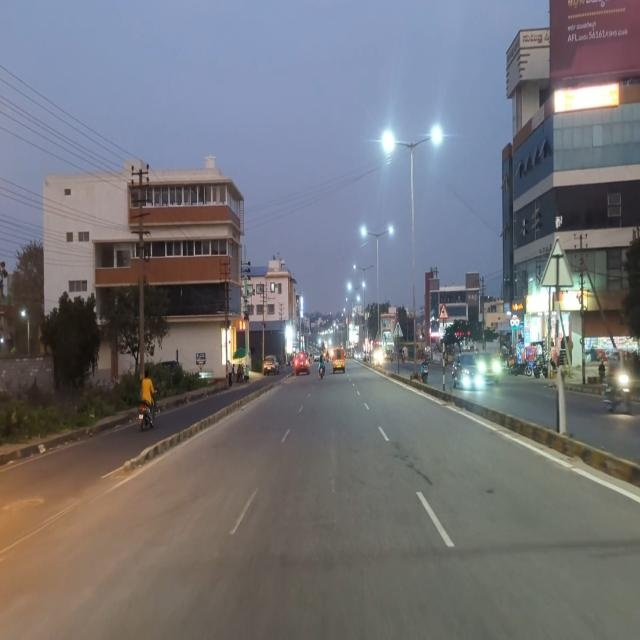bien_nguy_hiem: (439, 303, 449, 319)
